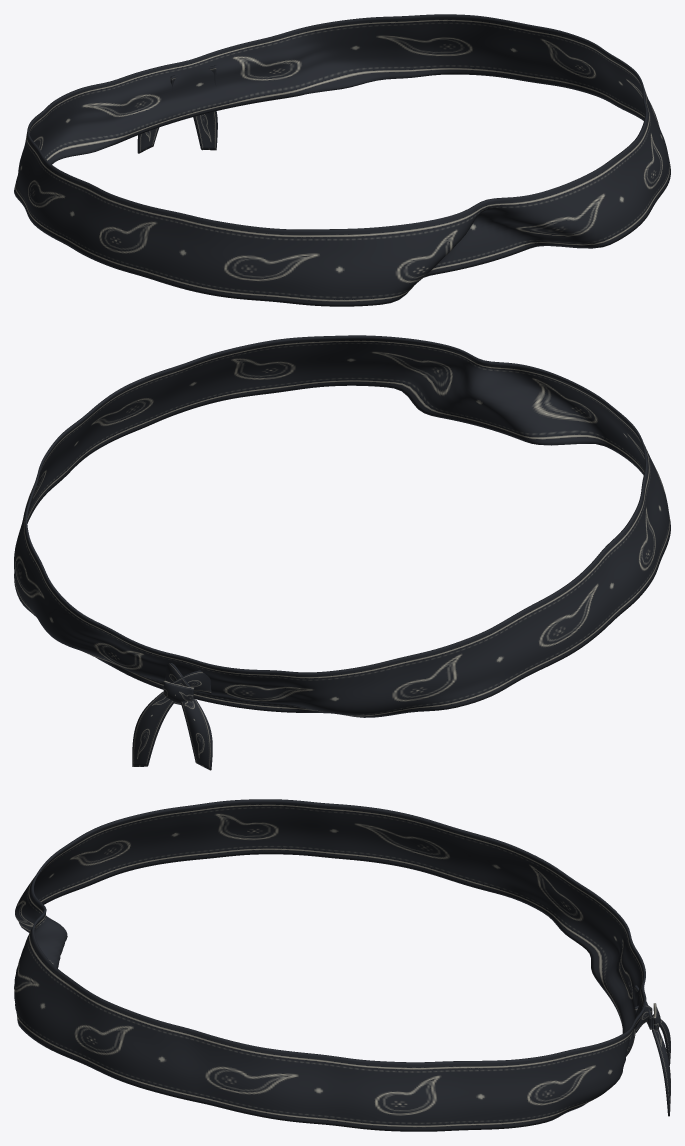
Rendered from Masculine-middle-part-bandana.glb.
3 renders of one model, top to bottom at view 1: azimuth 30°, elevation 25°; view 2: azimuth 150°, elevation 25°; view 3: azimuth 270°, elevation 25°, orthographic.
Parts seen in each view (by area): view 1: Bandana / folded forehead wrap, Bandana / falling tie 1; view 2: Bandana / folded forehead wrap, Bandana / falling tie 1, Bandana / falling tie -1; view 3: Bandana / folded forehead wrap, Bandana / falling tie 1.
Part boxes in pixels (box(x1,y1,x2,y2)): Bandana / folded forehead wrap: box(14, 14, 670, 306); Bandana / falling tie 1: box(193, 111, 217, 150); Bandana / folded forehead wrap: box(14, 335, 670, 717); Bandana / falling tie 1: box(132, 691, 174, 766); Bandana / falling tie -1: box(180, 699, 212, 770); Bandana / folded forehead wrap: box(14, 799, 646, 1131); Bandana / falling tie 1: box(652, 1015, 670, 1116).
Bounding box in the file's own units: 0.8264 × 0.2664 × 0.8426.
1 material, 1 textured.
